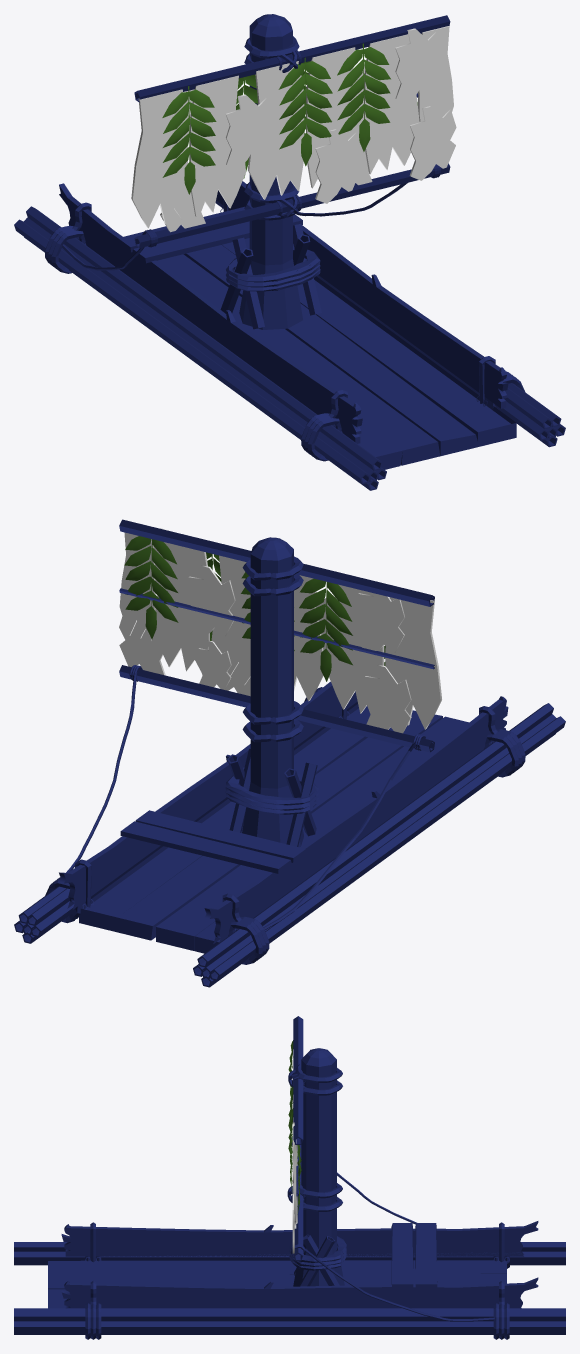
3 renders of one model, top to bottom at view 1: azimuth 30°, elevation 25°; view 2: azimuth 150°, elevation 25°; view 3: azimuth 270°, elevation 25°, orthographic. The views are drawn at different scales.
Visible parts, largest first — view 1: Cube006.005, Object091, Object096, Object095, Object094, Object099, Box010, Box011, Box012, Box014, Object064, Object065 (+15 smaller); view 2: Cube006.005, Object091, Object099, Object095, Object096, Object094, Object111, Box010, Box014, palo002, palo003, Object068 (+16 smaller); view 3: Cube006.005, Object091, Object099, Object093, Object094, Object111, Object092, palo002, Object098, Object097, Object056, palo003.
Boxes of the visible parts, <box> form: Cube006.005: <box>59,181,508,443</box>; Object091: <box>14,200,565,490</box>; Object096: <box>222,238,516,446</box>; Object095: <box>183,245,479,456</box>; Object094: <box>157,254,440,465</box>; Object099: <box>239,14,302,329</box>; Box010: <box>131,89,187,228</box>; Box011: <box>189,75,245,216</box>; Box012: <box>248,61,304,199</box>; Box014: <box>364,34,419,174</box>; Object064: <box>162,86,216,194</box>; Object065: <box>337,43,390,151</box>; Cube006.005: <box>59,681,508,943</box>; Object091: <box>14,702,565,987</box>; Object099: <box>242,537,303,847</box>; Object095: <box>116,710,442,940</box>; Object096: <box>79,704,370,931</box>; Object094: <box>156,716,468,950</box>; Object111: <box>120,810,306,873</box>; Box010: <box>385,597,441,729</box>; Box014: <box>154,542,209,671</box>; palo002: <box>119,519,434,606</box>; palo003: <box>119,665,434,752</box>; Object068: <box>299,578,352,681</box>; Cube006.005: <box>61,1221,538,1308</box>; Object091: <box>14,1242,565,1334</box>; Object099: <box>293,1048,344,1286</box>; Object093: <box>48,1260,506,1274</box>; Object094: <box>48,1274,506,1289</box>; Object111: <box>391,1223,437,1287</box>; Object092: <box>85,1222,509,1339</box>; palo002: <box>293,1016,303,1144</box>; Object098: <box>294,1234,344,1286</box>; Object097: <box>289,1236,346,1270</box>; Object056: <box>305,1248,498,1321</box>; palo003: <box>293,1145,303,1260</box>.
Size of the model in its own units: 789 by 744 by 1466.
